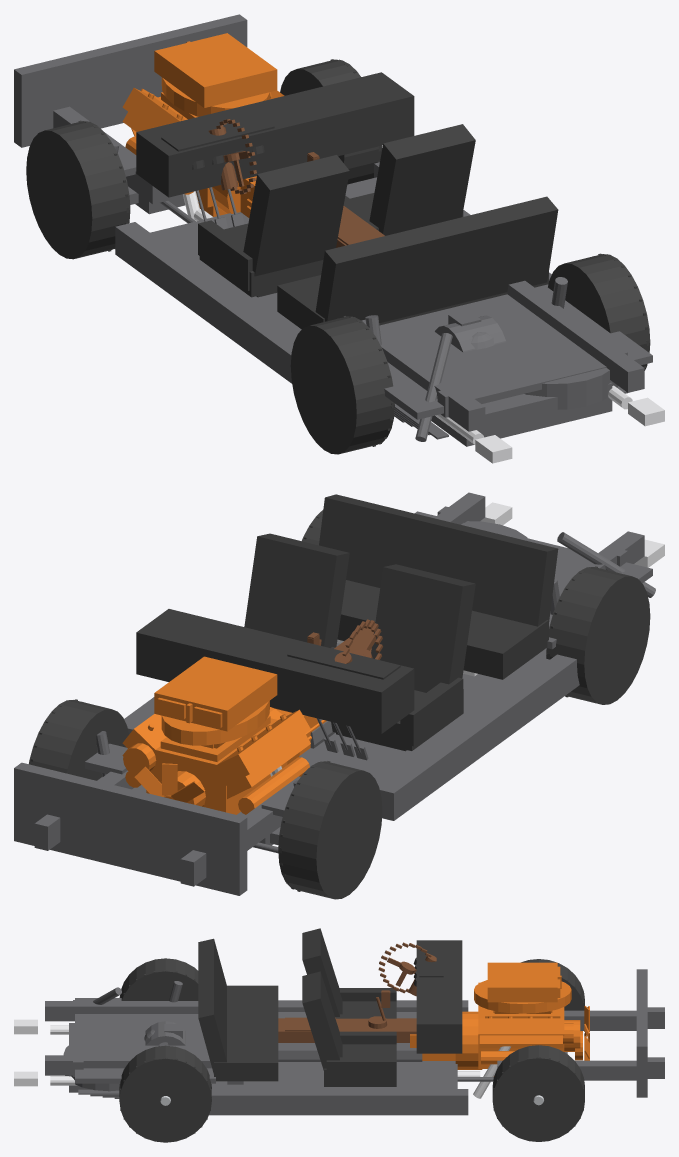
Rendered from Car_Dodge_Challenger_1970s_Chassis.glb.
3 views of the same model, one above another, from view 1: azimuth 30°, elevation 25°; view 2: azimuth 150°, elevation 25°; view 3: azimuth 270°, elevation 25° (orthographic). The views are drawn at different scales.
Visible parts, largest first — view 1: CHASSIS_E_Body_Platform, INTERIOR_Seats_Vinyl, INTERIOR_Dashboard_And_Rallye_Gauges, TIRE_RR, TIRE_FR, POWERTRAIN_426_Street_Hemi_And_A833, TIRE_RL, SUSPENSION_Torsion_Bar_And_Dana_60, EXHAUST_True_Dual_Hemi_System, TIRE_FL, INTERIOR_Rallye_Steering_Wheel, INTERIOR_Center_Console_And_Pistol_Grip; view 2: INTERIOR_Seats_Vinyl, CHASSIS_E_Body_Platform, POWERTRAIN_426_Street_Hemi_And_A833, INTERIOR_Dashboard_And_Rallye_Gauges, TIRE_FR, TIRE_RR, TIRE_FL, SUSPENSION_Torsion_Bar_And_Dana_60, EXHAUST_True_Dual_Hemi_System, INTERIOR_Rallye_Steering_Wheel, INTERIOR_Foot_Pedals, INTERIOR_Center_Console_And_Pistol_Grip; view 3: CHASSIS_E_Body_Platform, INTERIOR_Seats_Vinyl, POWERTRAIN_426_Street_Hemi_And_A833, TIRE_FL, TIRE_RL, INTERIOR_Dashboard_And_Rallye_Gauges, TIRE_RR, INTERIOR_Center_Console_And_Pistol_Grip, EXHAUST_True_Dual_Hemi_System, SUSPENSION_Torsion_Bar_And_Dana_60, INTERIOR_Rallye_Steering_Wheel, TIRE_FR.
Boxes of the visible parts, x1,y1,x2,y2 form: CHASSIS_E_Body_Platform: (14, 14, 652, 446); INTERIOR_Seats_Vinyl: (198, 124, 558, 329); INTERIOR_Dashboard_And_Rallye_Gauges: (136, 72, 414, 197); TIRE_RR: (290, 316, 394, 454); TIRE_FR: (26, 120, 130, 259); POWERTRAIN_426_Street_Hemi_And_A833: (122, 33, 284, 217); TIRE_RL: (548, 253, 650, 370); SUSPENSION_Torsion_Bar_And_Dana_60: (112, 142, 627, 439); EXHAUST_True_Dual_Hemi_System: (183, 191, 664, 463); TIRE_FL: (280, 59, 382, 184); INTERIOR_Rallye_Steering_Wheel: (208, 119, 256, 194); INTERIOR_Center_Console_And_Pistol_Grip: (307, 152, 384, 247); INTERIOR_Seats_Vinyl: (244, 494, 558, 751); CHASSIS_E_Body_Platform: (14, 492, 655, 895); POWERTRAIN_426_Street_Hemi_And_A833: (122, 656, 326, 814); INTERIOR_Dashboard_And_Rallye_Gauges: (136, 609, 414, 733); TIRE_FR: (278, 761, 382, 899); TIRE_RR: (546, 566, 650, 704); TIRE_FL: (29, 699, 128, 780); SUSPENSION_Torsion_Bar_And_Dana_60: (85, 577, 559, 853); EXHAUST_True_Dual_Hemi_System: (270, 502, 664, 776); INTERIOR_Rallye_Steering_Wheel: (334, 619, 382, 663); INTERIOR_Foot_Pedals: (316, 718, 368, 760); INTERIOR_Center_Console_And_Pistol_Grip: (272, 627, 373, 712); CHASSIS_E_Body_Platform: (45, 969, 664, 1115); INTERIOR_Seats_Vinyl: (198, 928, 396, 1086); POWERTRAIN_426_Street_Hemi_And_A833: (410, 962, 589, 1076); TIRE_FL: (492, 1045, 584, 1141); TIRE_RL: (119, 1045, 211, 1142); INTERIOR_Dashboard_And_Rallye_Gauges: (413, 940, 462, 1053); TIRE_RR: (119, 958, 198, 1000); INTERIOR_Center_Console_And_Pistol_Grip: (278, 990, 416, 1042); EXHAUST_True_Dual_Hemi_System: (14, 1019, 510, 1098); SUSPENSION_Torsion_Bar_And_Dana_60: (78, 981, 567, 1098); INTERIOR_Rallye_Steering_Wheel: (378, 942, 436, 996); TIRE_FR: (521, 959, 584, 1010).
Size of the model in its own units: 1.79 by 1.06 by 4.85.
